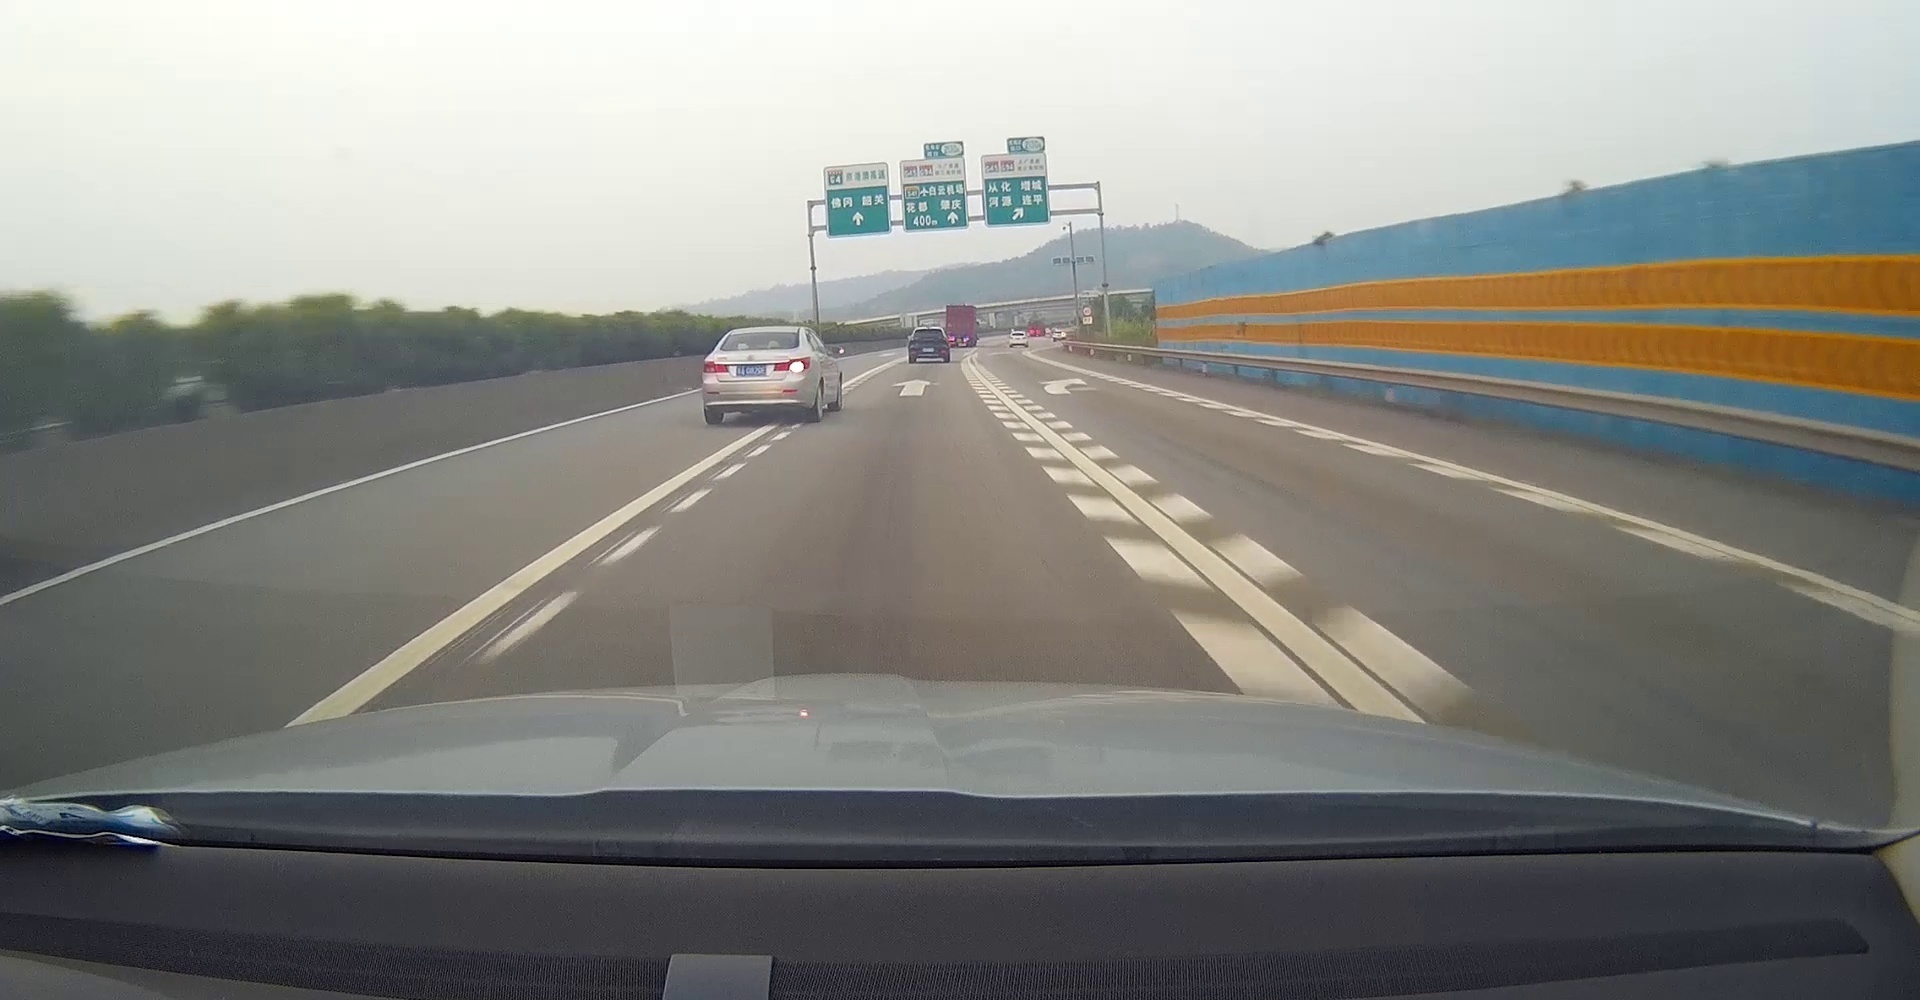L_light: (703, 360, 728, 373)
R_light: (775, 357, 810, 371)
T_light: (753, 332, 770, 338)
day-right: (702, 327, 813, 425)
